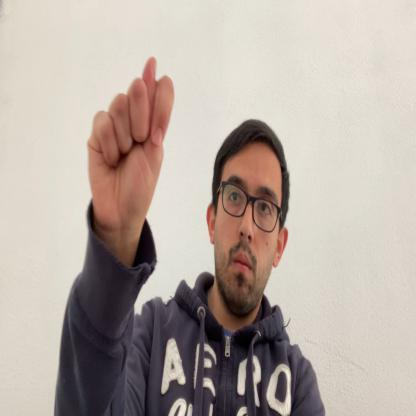T: (88, 55, 174, 238)
